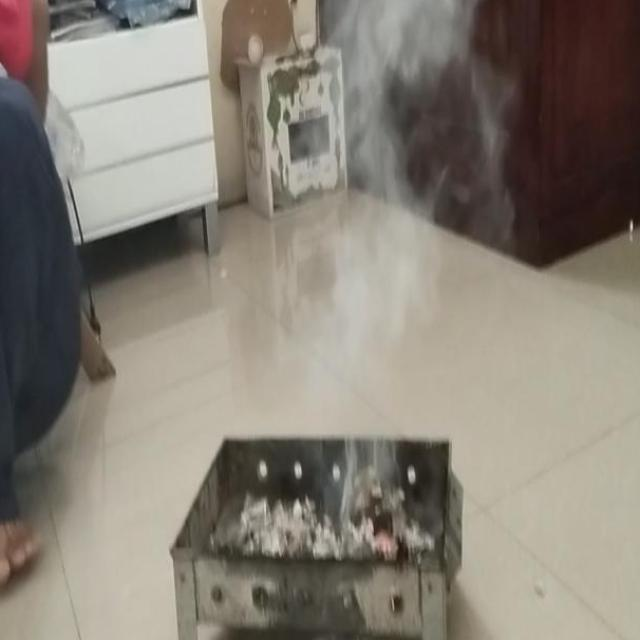fire: (276, 0, 490, 531)
